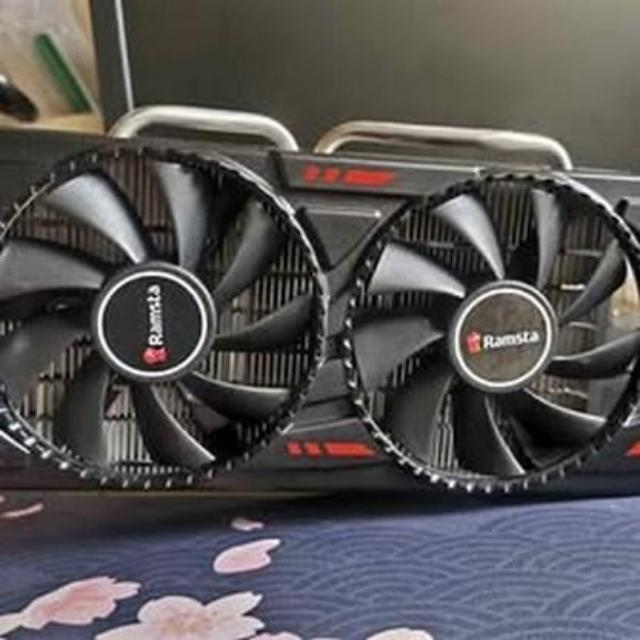GPU: (0, 103, 640, 532)
